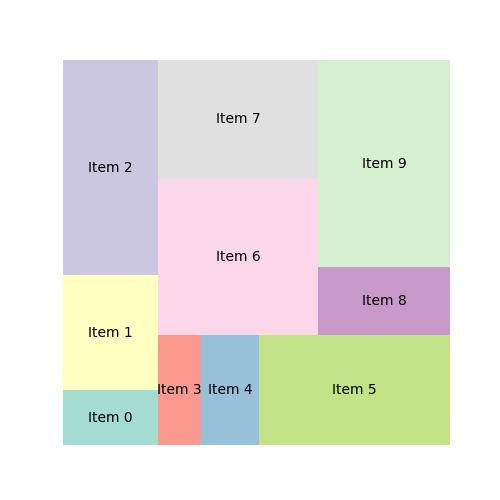rectangle: (319, 62, 450, 265), (158, 176, 319, 334), (62, 59, 158, 276), (261, 334, 450, 444), (158, 60, 319, 178), (61, 274, 159, 388), (319, 266, 450, 337), (201, 334, 261, 446), (62, 390, 157, 444), (159, 334, 199, 441)
